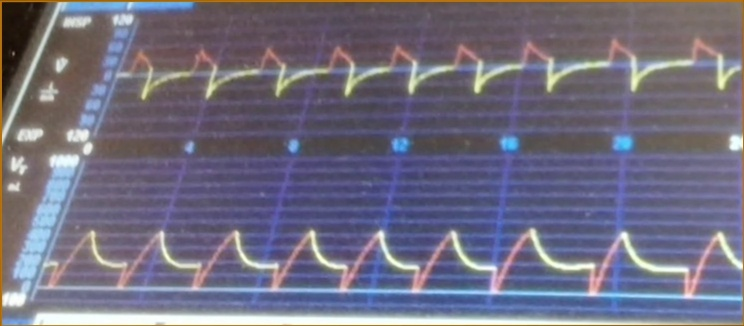Flow: (130, 26, 739, 130)
Leakage Volume: (71, 192, 738, 313)
